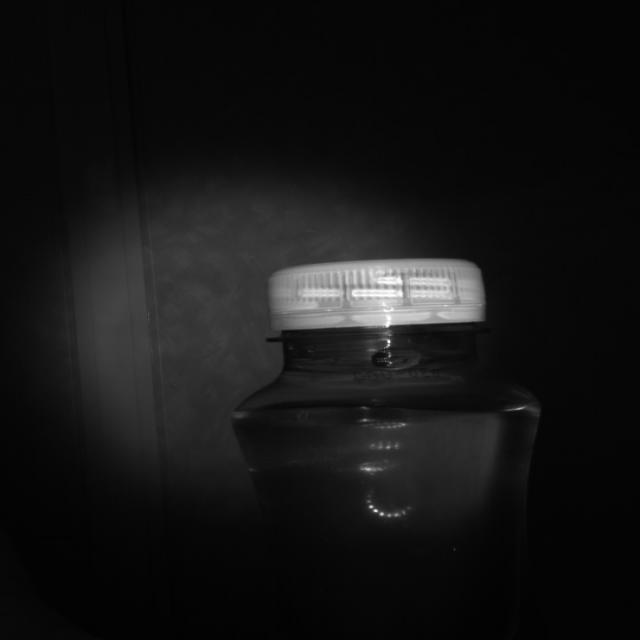Good: (269, 258, 485, 333)
